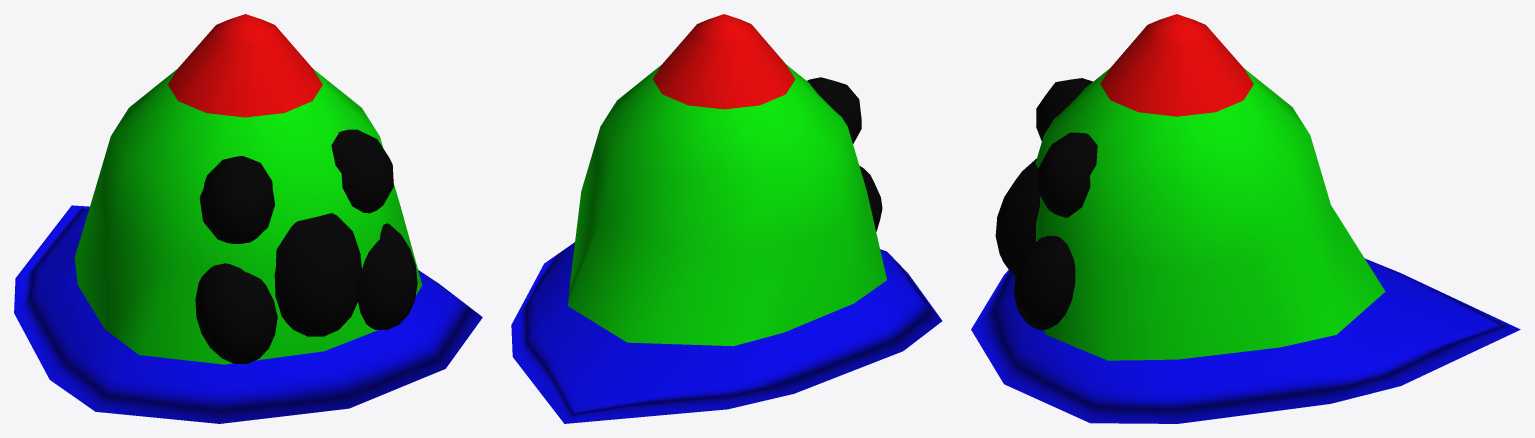
The model's file is Stackie.fbx.
3 renders of one model, left to right at view 1: azimuth 30°, elevation 25°; view 2: azimuth 150°, elevation 25°; view 3: azimuth 270°, elevation 25°, orthographic. The views are drawn at different scales.
Visible parts, largest first — view 1: gideeye3; view 2: gideeye3; view 3: gideeye3.
Boxes of the visible parts, box(x1,y1,x2,y2) form: gideeye3: box(14, 14, 482, 423); gideeye3: box(511, 14, 942, 423); gideeye3: box(971, 14, 1520, 423).
Bounding box in the file's own units: 145 × 113 × 179.
